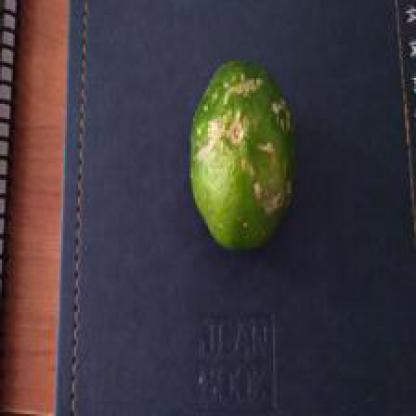orange_rotten: (154, 22, 321, 282)
